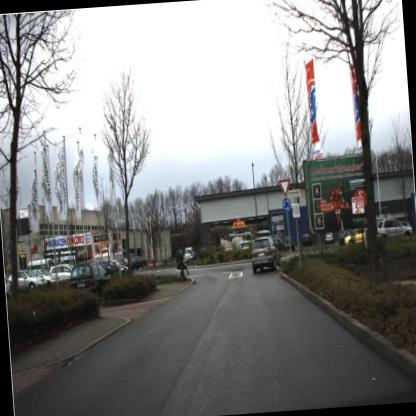mandatory: (280, 194, 293, 214)
other: (278, 176, 293, 200)
